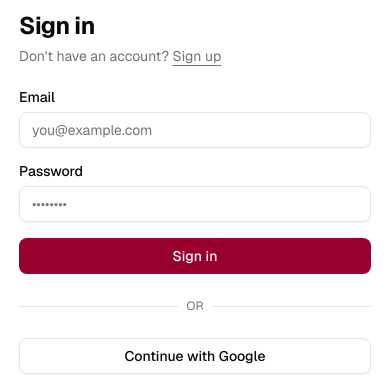
Test: SignInPage › shows loading state while signing in
Type "test@example.com" into the field labelled "Email" at (195, 130), box [19,112,371,148]
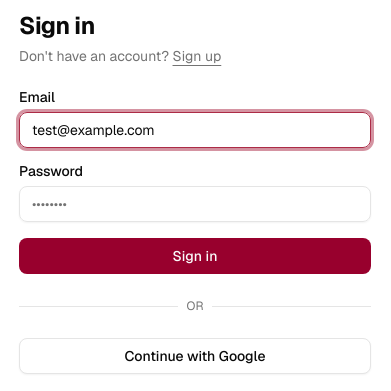
Type "password123" into the password field labelled "Password" at (195, 204), box [19,186,371,222]
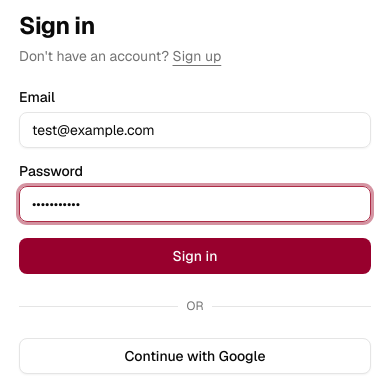
Click the button "Sign in" at (195, 256), box [19,238,371,274]
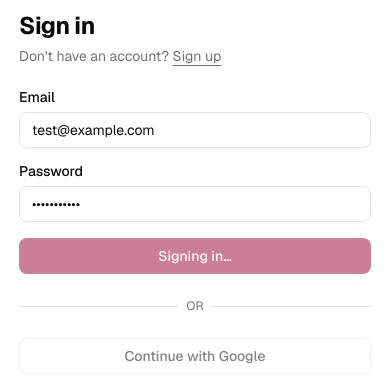
expect the button "Signing in…" is shown: met, box [19,238,371,274]
